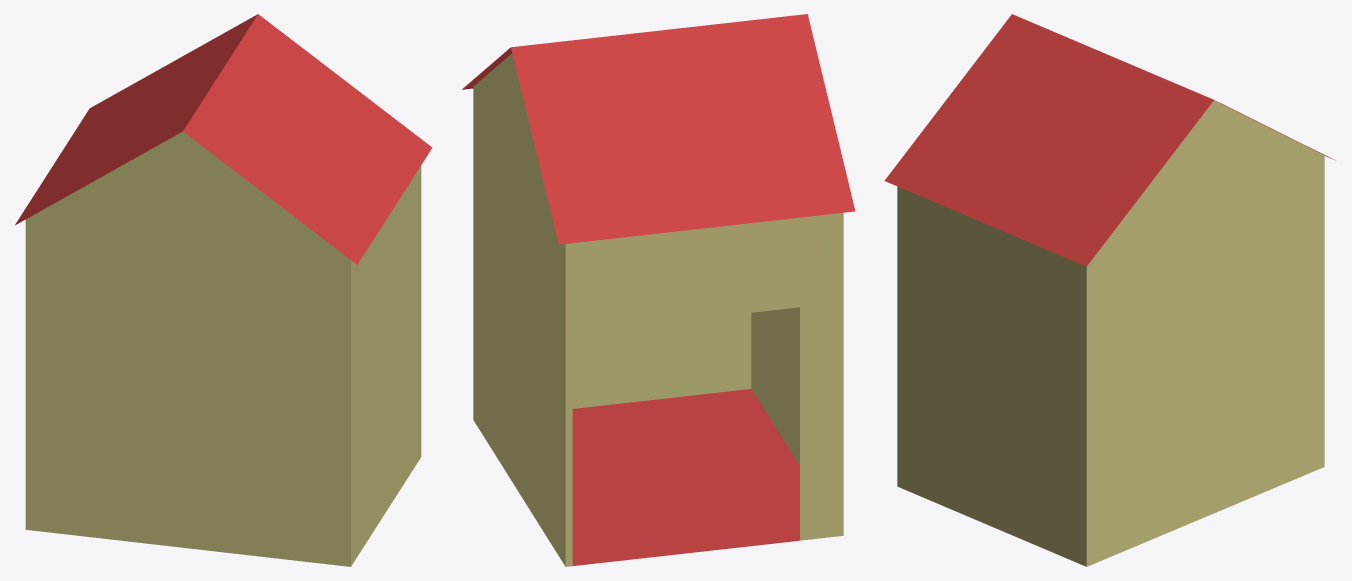
3 renders of one model, left to right at view 1: azimuth 30°, elevation 25°; view 2: azimuth 150°, elevation 25°; view 3: azimuth 270°, elevation 25°, orthographic. The views are drawn at different scales.
Bounding box in the file's own units: 12.43 × 12.43 × 12.68.
